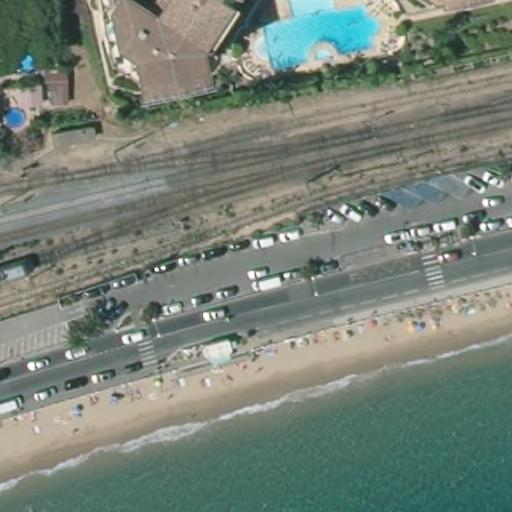pool: (260, 0, 382, 79), (16, 50, 62, 75), (0, 108, 32, 132)
